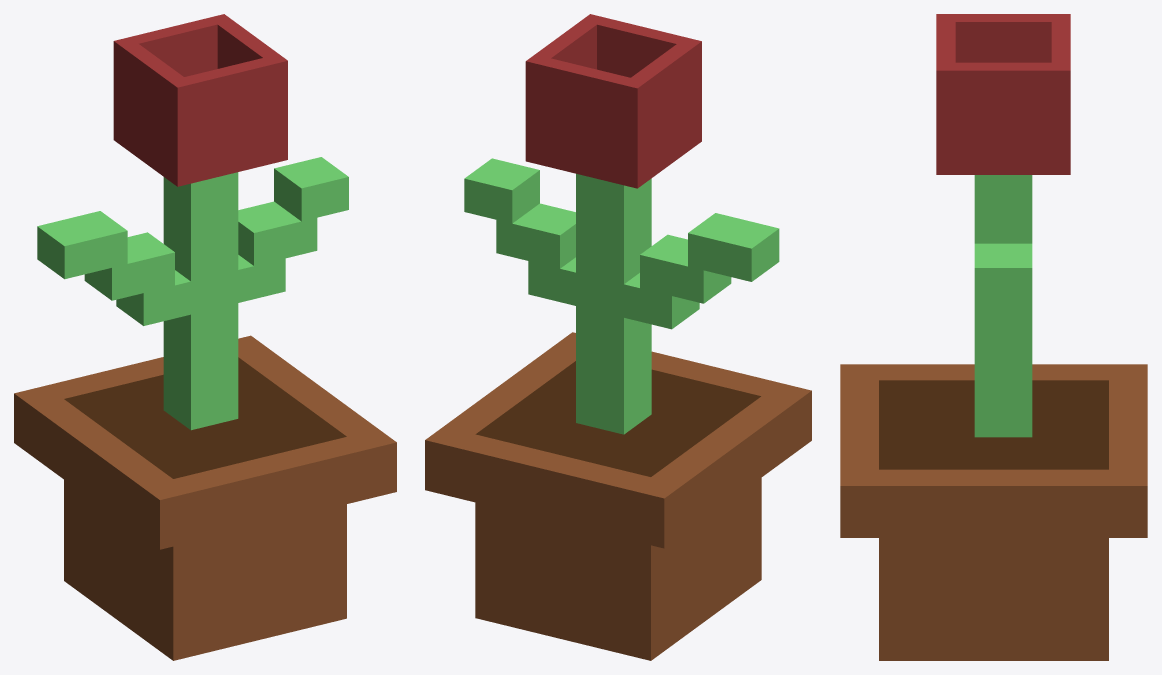
The model's file is SchoolPack-18-rose.obj.
3 renders of one model, left to right at view 1: azimuth 30°, elevation 25°; view 2: azimuth 150°, elevation 25°; view 3: azimuth 270°, elevation 25°, orthographic. The views are drawn at different scales.
Parts seen in each view (by area): view 1: rose; view 2: rose; view 3: rose.
Part boxes in pixels (x1,y1,x2,y2): rose: [14, 14, 396, 660]; rose: [425, 14, 811, 660]; rose: [840, 14, 1147, 660].
Bounding box in the file's own units: 1.8 × 3.3 × 1.6.
Materials: 1 (1 with a texture image).
